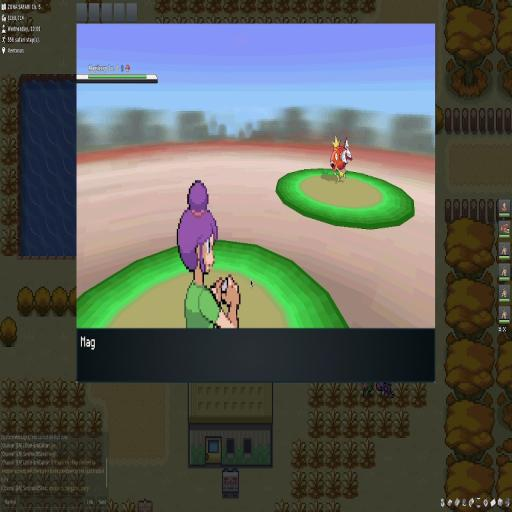MAGIKARP: (330, 136, 352, 183)
